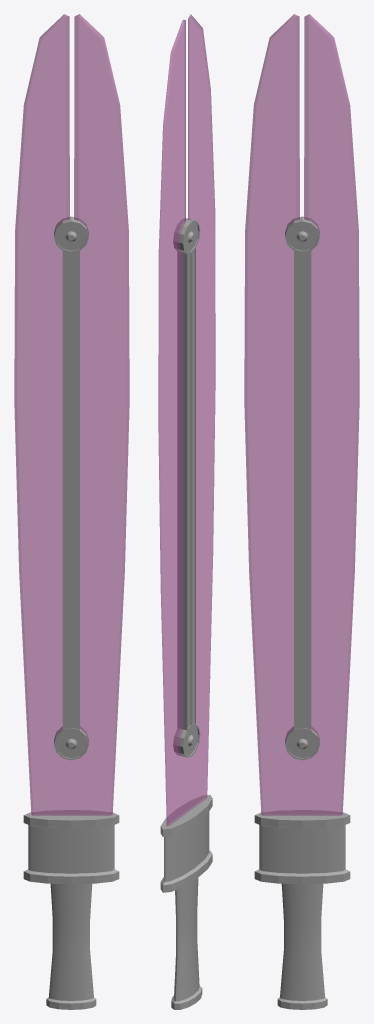
File: Beam_Sword_FC.fbx
3 views of the same model, side by side, from view 1: azimuth 90°, elevation 25°; view 2: azimuth 150°, elevation 25°; view 3: azimuth 270°, elevation 25° (orthographic).
Parts seen in each view (by area): view 1: polySurface1; view 2: polySurface1; view 3: polySurface1.
Part boxes in pixels (x1=…): polySurface1: x1=14, y1=14, x2=129, y2=1009; polySurface1: x1=158, y1=14, x2=215, y2=1009; polySurface1: x1=244, y1=14, x2=359, y2=1009.
Bounding box in the file's own units: 0.00191 × 0.083 × 0.00876.
